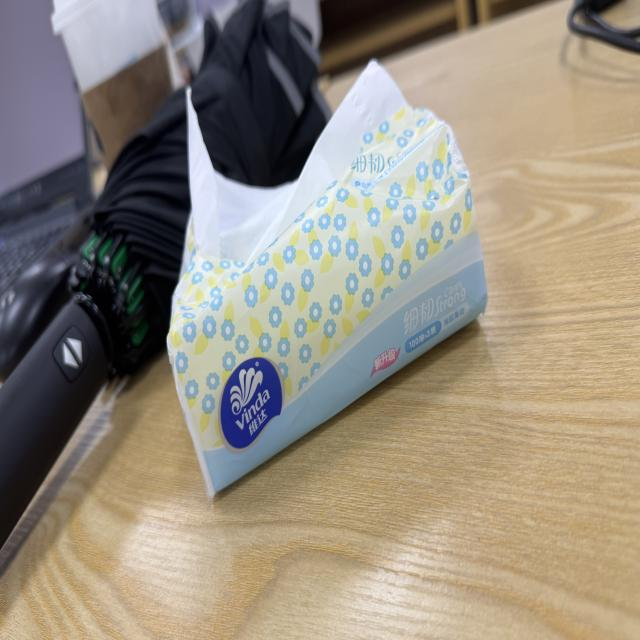tissue: (168, 65, 486, 494)
